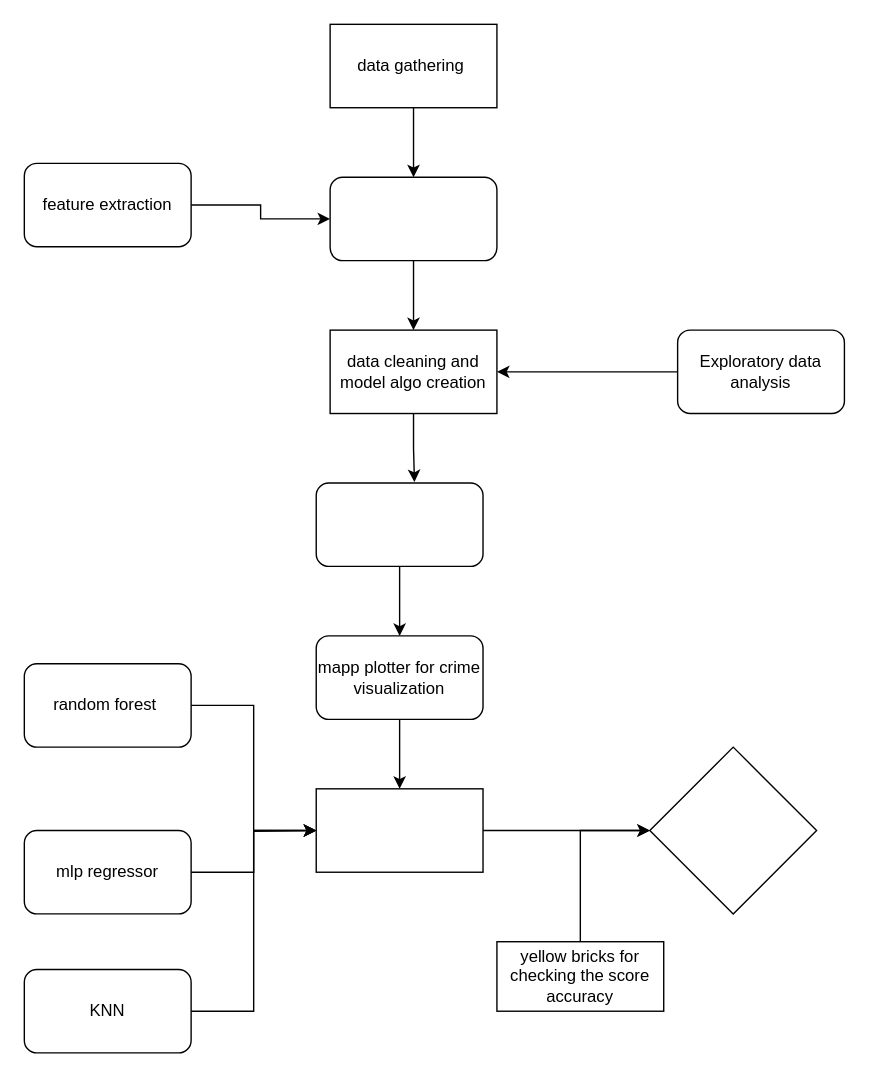
Image size: 869x1077. Some labels were removed from this diagram. Each missing label, with the centre of its shape:
analytical report for different crime: point (399, 524)
crime seperation and distribution: point (413, 218)
ensemble model: point (399, 829)
final deployment and prediction: point (732, 830)
